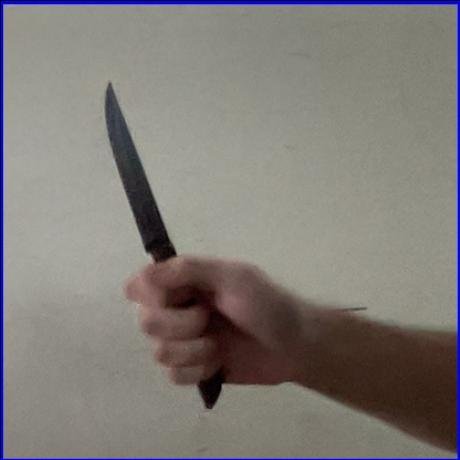1: (121, 250, 460, 460)
weapon: (100, 81, 224, 415)
